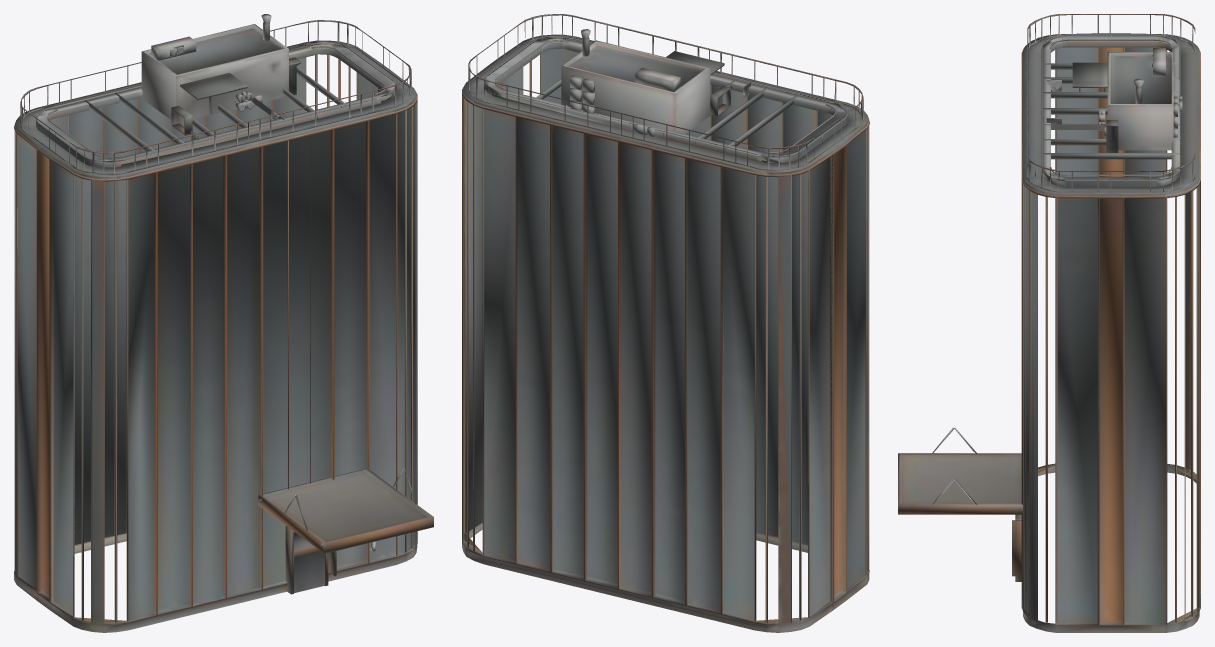
The model's file is city-hotel-tower.glb.
3 views of the same model, side by side, from view 1: azimuth 30°, elevation 25°; view 2: azimuth 150°, elevation 25°; view 3: azimuth 270°, elevation 25° (orthographic). The views are drawn at different scales.
Parts seen in each view (by area): view 1: Hotel tower; view 2: Hotel tower; view 3: Hotel tower.
Part boxes in pixels (<box>): Hotel tower: <box>14,14,433,632</box>; Hotel tower: <box>462,14,869,632</box>; Hotel tower: <box>898,14,1200,632</box>.
Size of the model in its own units: 0.6895 by 0.998 by 0.5449.
Materials: 1 (1 with a texture image).
